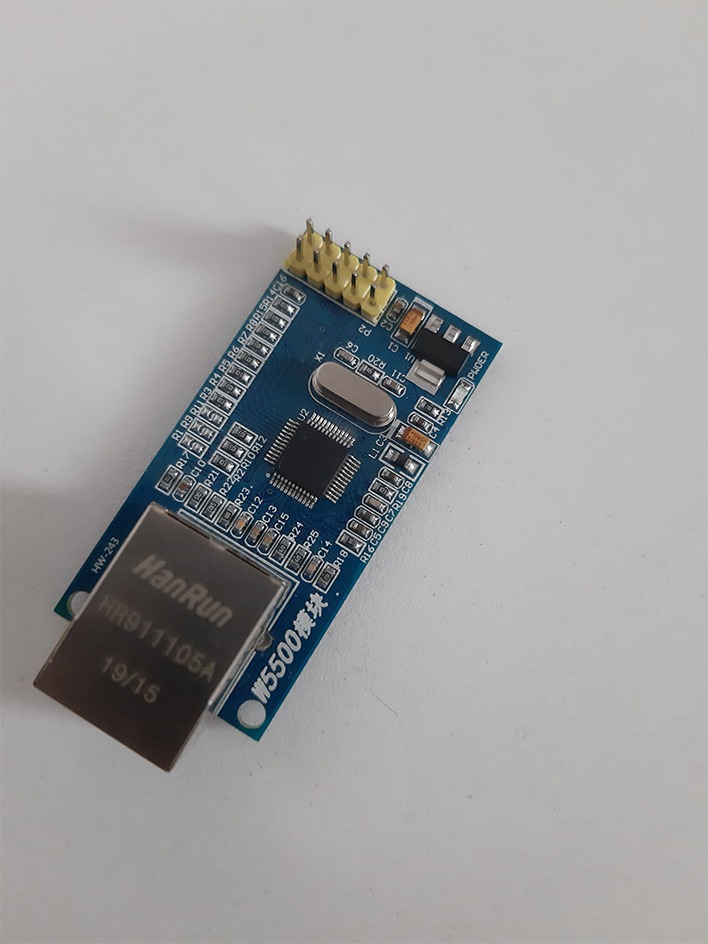Ethernet-W5500: (13, 197, 520, 817)
